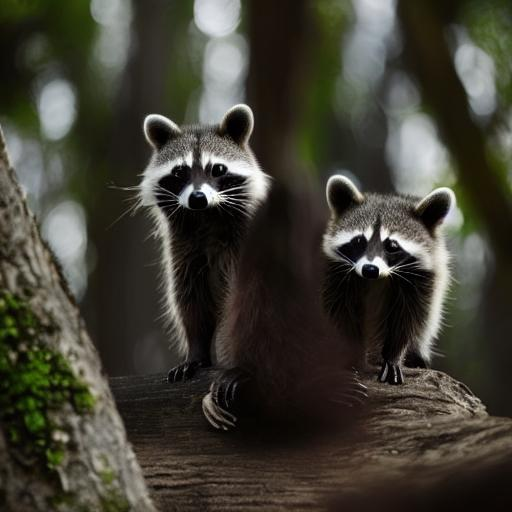raccoon: (133, 100, 276, 358), (320, 168, 464, 358)
